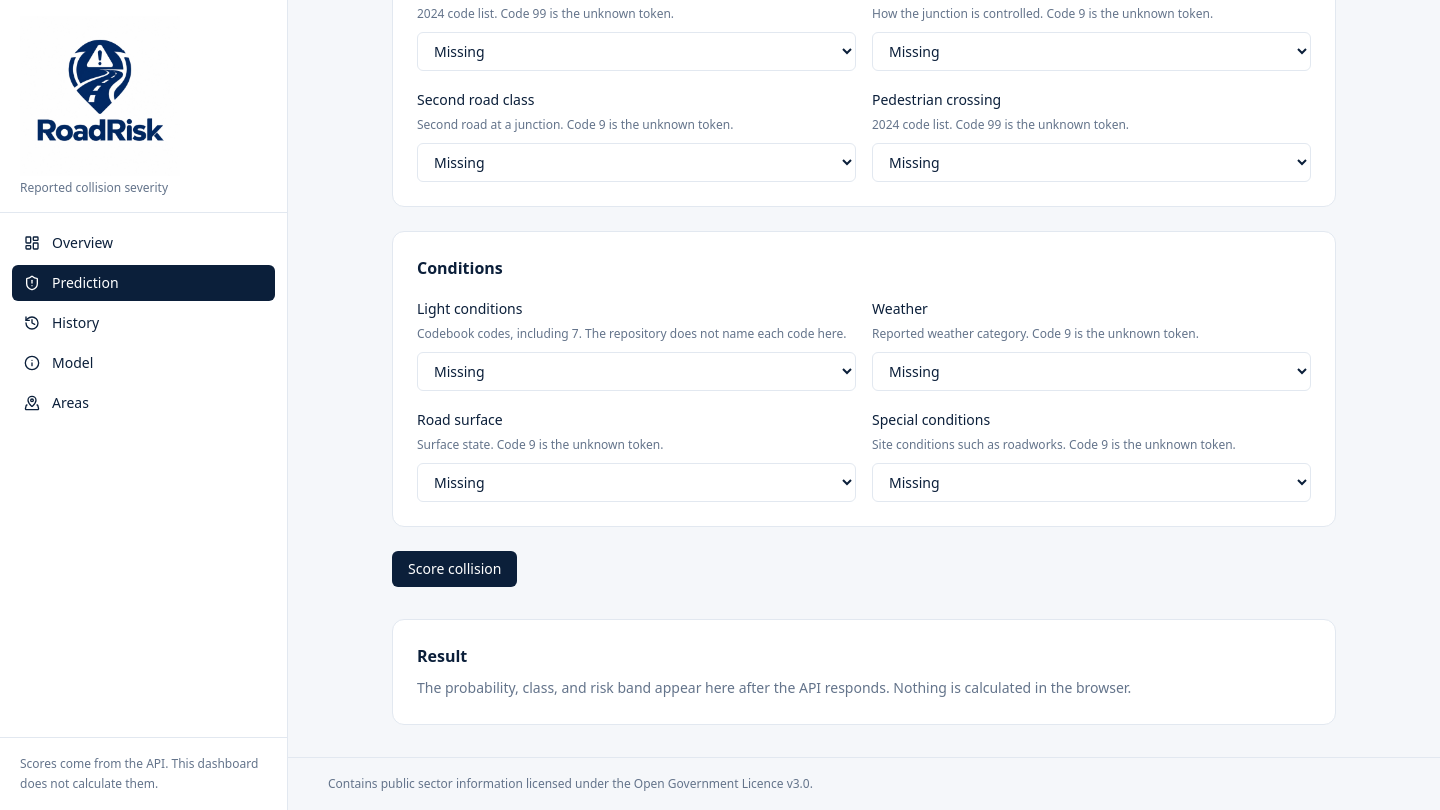
Test: dashboard › shows a server error
(page scrolled)
What coordinates should you click on to do the following:
click the button "Score collision"
I would click on:
 (455, 569)
Its box is x1=392 y1=551 x2=517 y2=587.
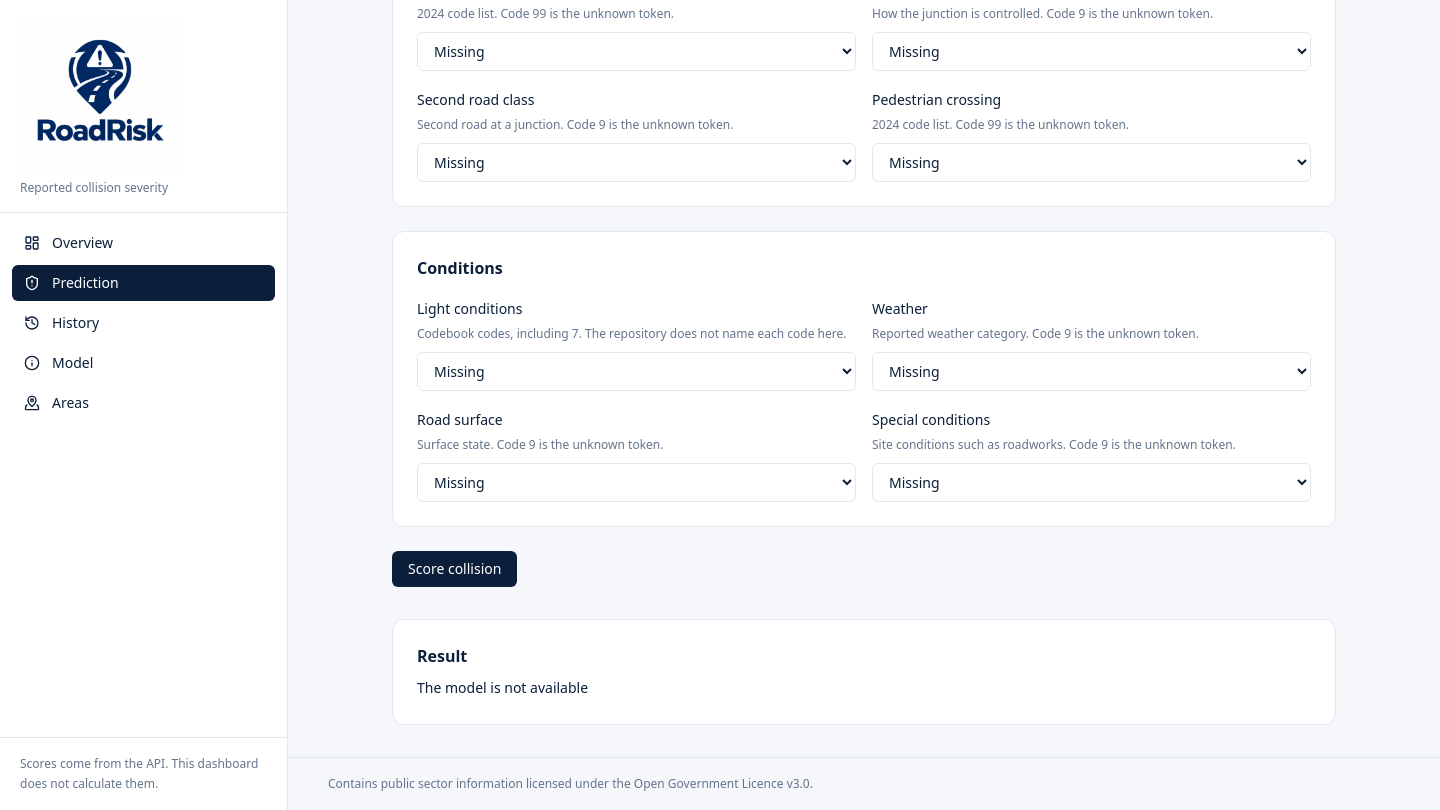
Expected: the message reads "The model is not available", x1=417 y1=678 x2=588 y2=697
